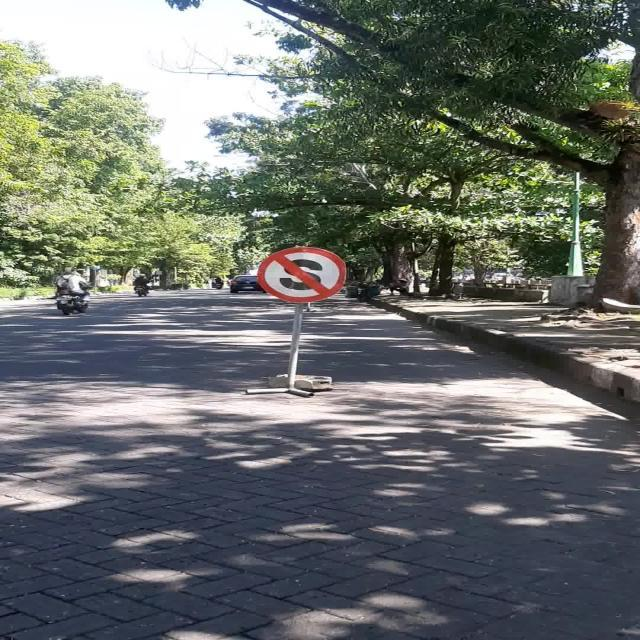Dilarang Berhenti: (258, 247, 346, 303)
